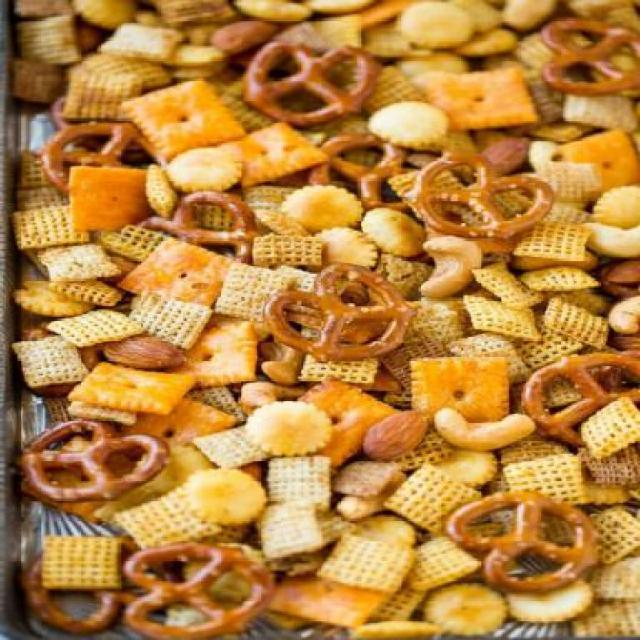Salatini packaged: (19, 21, 632, 628)
